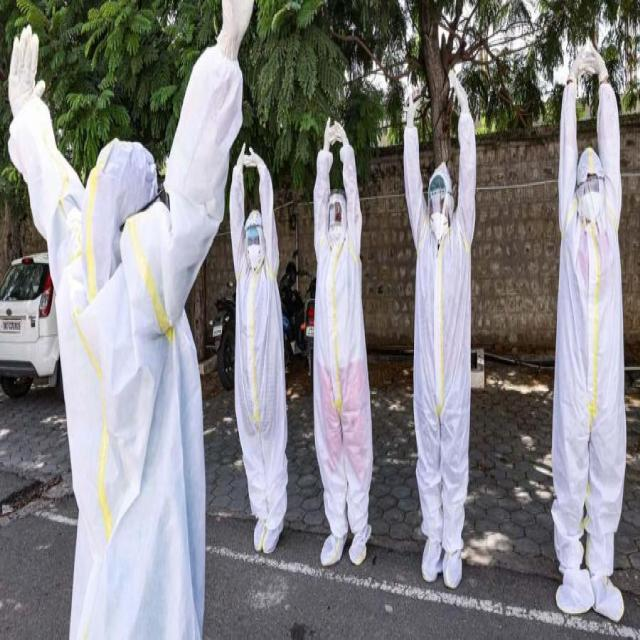Mask: (429, 210, 451, 244), (244, 242, 267, 274), (584, 196, 605, 225)
